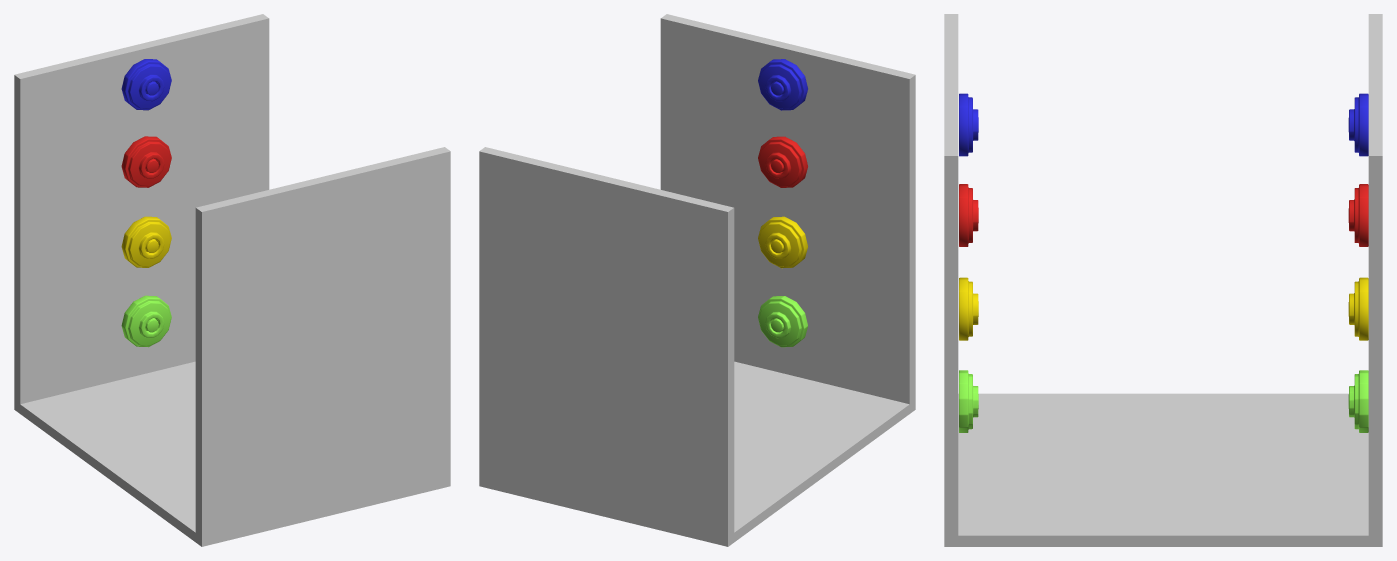
The model's file is wirebox1.fbx.
3 renders of one model, left to right at view 1: azimuth 30°, elevation 25°; view 2: azimuth 150°, elevation 25°; view 3: azimuth 270°, elevation 25°, orthographic. The views are drawn at different scales.
Parts seen in each view (by area): view 1: Cube, plugs.002, plugs.001, plugs.003, plugs; view 2: Cube, plugs.005, plugs.007, plugs.006, plugs.004; view 3: Cube, plugs.003, plugs.001, plugs, plugs.002, plugs.005, plugs.007, plugs.004, plugs.006.
Part boxes in pixels (x1,y1,x2,y2): Cube: [14, 14, 450, 546]; plugs.002: [121, 136, 171, 187]; plugs.001: [121, 59, 171, 110]; plugs.003: [121, 216, 171, 267]; plugs: [121, 295, 171, 347]; Cube: [479, 14, 915, 546]; plugs.005: [758, 59, 807, 110]; plugs.007: [758, 216, 808, 268]; plugs.006: [758, 136, 807, 187]; plugs.004: [758, 296, 807, 347]; Cube: [944, 14, 1382, 546]; plugs.003: [1348, 277, 1368, 340]; plugs.001: [1348, 93, 1368, 156]; plugs: [1348, 370, 1368, 432]; plugs.002: [1348, 184, 1368, 246]; plugs.005: [959, 93, 978, 156]; plugs.007: [959, 277, 978, 340]; plugs.004: [959, 370, 978, 432]; plugs.006: [959, 184, 978, 246].
Bounding box in the file's own units: 659 × 847 × 860.
